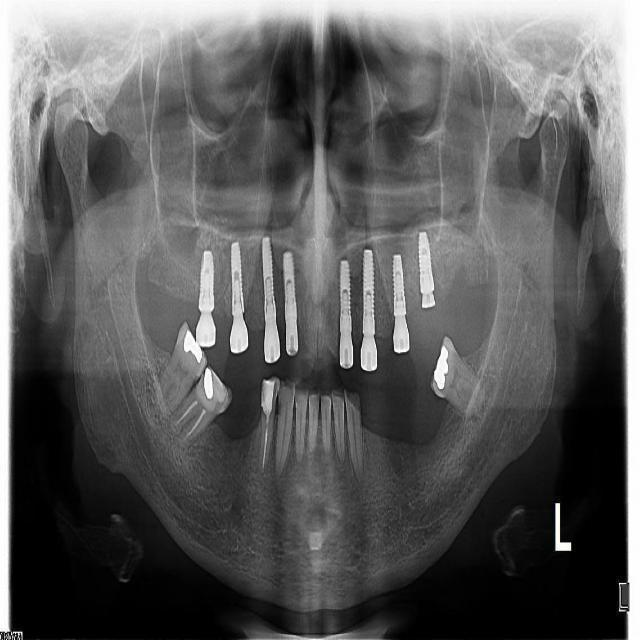Filling: (434, 344, 449, 391), (183, 328, 203, 363), (261, 378, 274, 415), (203, 369, 214, 400)
Implant: (197, 246, 214, 316), (362, 250, 375, 337), (231, 240, 245, 317), (263, 238, 276, 319), (418, 232, 434, 295), (283, 250, 296, 319), (340, 261, 351, 332), (394, 254, 406, 318)
Missing teeth: (362, 382, 455, 445), (212, 385, 264, 437)
Root Canal Treatment: (185, 410, 206, 436), (176, 400, 197, 423), (263, 417, 269, 469)
